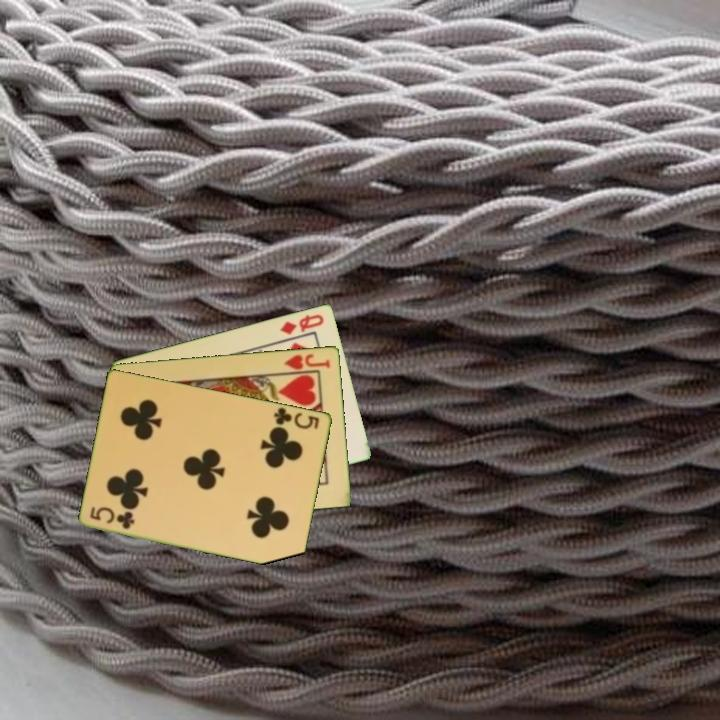5c: (87, 502, 138, 532), (270, 404, 322, 432)
Jh: (278, 350, 333, 376)
Qd: (276, 310, 327, 337)
